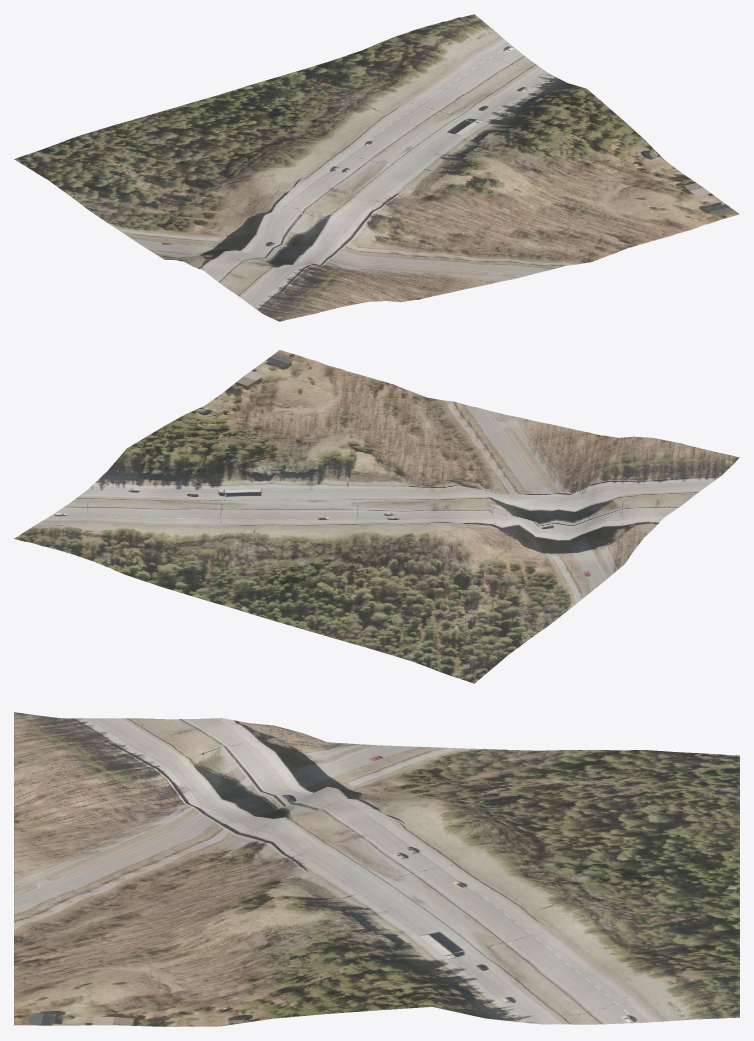
Rendered from CM_Terrain_24490254_6817541.fbx.
The picture shows the model from 3 angles, top to bottom: view 1: azimuth 30°, elevation 25°; view 2: azimuth 150°, elevation 25°; view 3: azimuth 270°, elevation 25°; orthographic projection. The views are drawn at different scales.
Parts seen in each view (by area): view 1: CM_Terrain_24490254_6817541_LOD0; view 2: CM_Terrain_24490254_6817541_LOD0; view 3: CM_Terrain_24490254_6817541_LOD0.
Boxes of the visible parts, left/top/right/bottom form: CM_Terrain_24490254_6817541_LOD0: left=14, top=14, right=739, bottom=321; CM_Terrain_24490254_6817541_LOD0: left=14, top=350, right=739, bottom=683; CM_Terrain_24490254_6817541_LOD0: left=14, top=712, right=739, bottom=1026.
Size of what is drawn, in the model's own units: 205 by 17.26 by 205.
